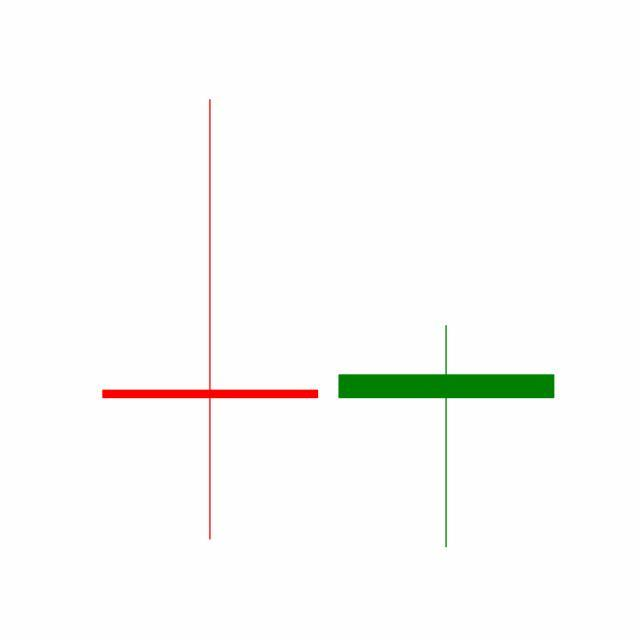Spinning Top: (328, 323, 566, 550)
